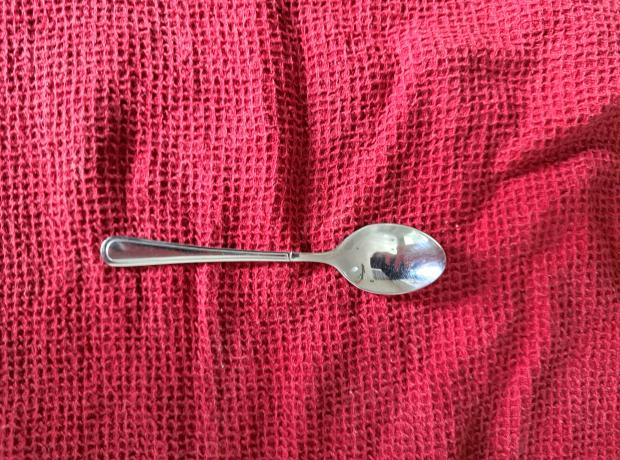metal: (98, 219, 446, 314)
